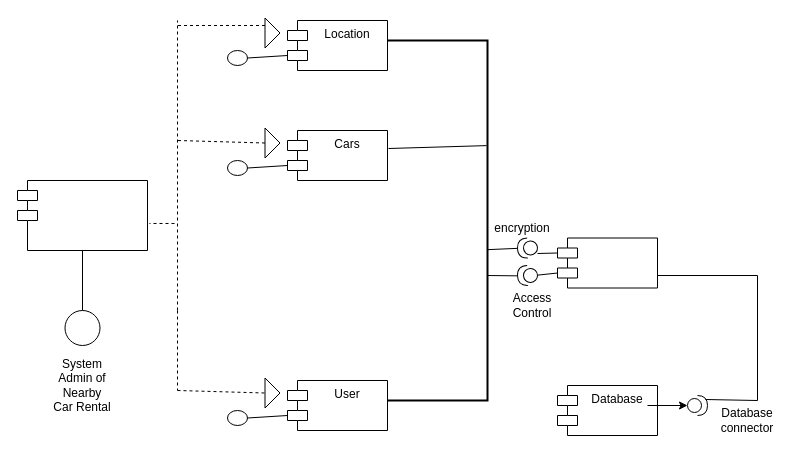
This 795x453 diagram has some shape labels left out. Here are the shapes that lost their labels. From the top down, the centre of each, then its label:
(x=82, y=215): Nearby Car Rental
(x=607, y=262): Persistance
